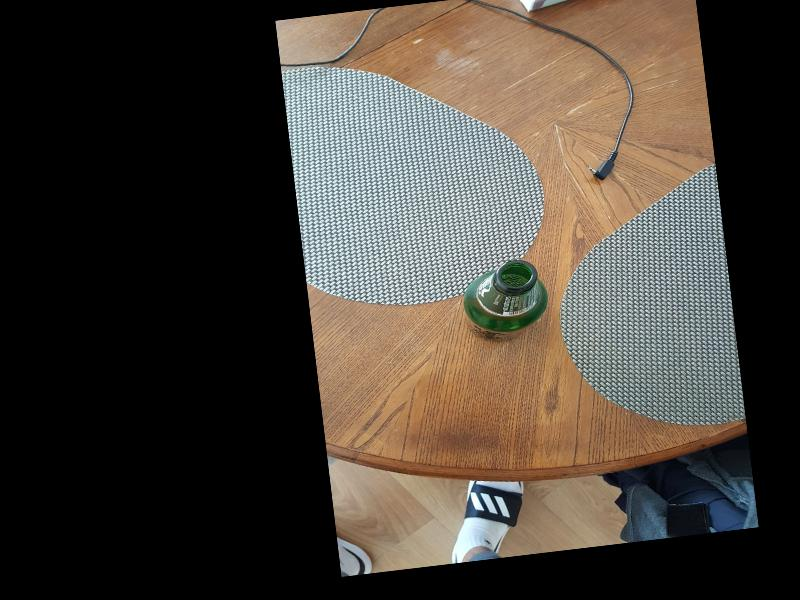Beer: (459, 256, 553, 344)
